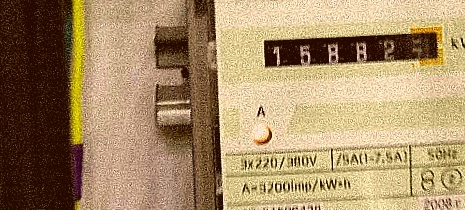1: (268, 42, 284, 65)
2: (379, 36, 397, 61)
5: (296, 40, 312, 66)
7: (410, 42, 423, 59)
8: (352, 38, 368, 63), (324, 40, 339, 64)
screen: (253, 17, 453, 85)
